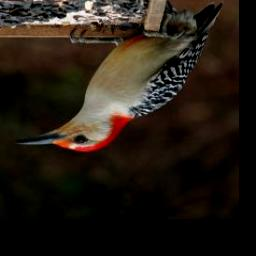Woodpecker: (15, 0, 226, 153)
